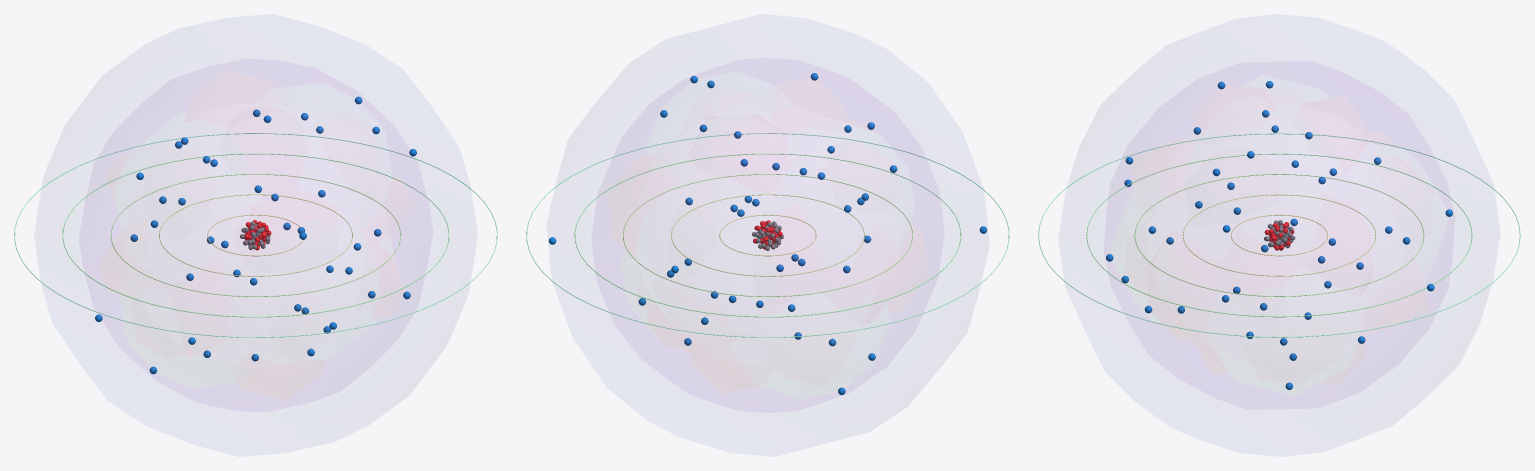
The picture shows the model from 3 angles, left to right: view 1: azimuth 30°, elevation 25°; view 2: azimuth 150°, elevation 25°; view 3: azimuth 270°, elevation 25°; orthographic projection.
Parts seen in each view (by area): view 1: Nivel_n5, Nivel_n4, Nivel_n3, Nivel_n2; view 2: Nivel_n5, Nivel_n4, Nivel_n3, Nivel_n2; view 3: Nivel_n5, Nivel_n4, Nivel_n3, Nivel_n2.
Boxes of the visible parts, bbox=[...] form: Nivel_n5: bbox=[14, 133, 497, 337]; Nivel_n4: bbox=[62, 153, 449, 317]; Nivel_n3: bbox=[110, 174, 401, 296]; Nivel_n2: bbox=[159, 194, 352, 276]; Nivel_n5: bbox=[526, 133, 1009, 337]; Nivel_n4: bbox=[574, 153, 961, 317]; Nivel_n3: bbox=[623, 174, 912, 296]; Nivel_n2: bbox=[671, 194, 864, 276]; Nivel_n5: bbox=[1038, 133, 1520, 337]; Nivel_n4: bbox=[1086, 153, 1472, 317]; Nivel_n3: bbox=[1134, 174, 1424, 296]; Nivel_n2: bbox=[1182, 194, 1376, 276].
Size of the model in its own units: 1.5 by 1.38 by 1.5.
